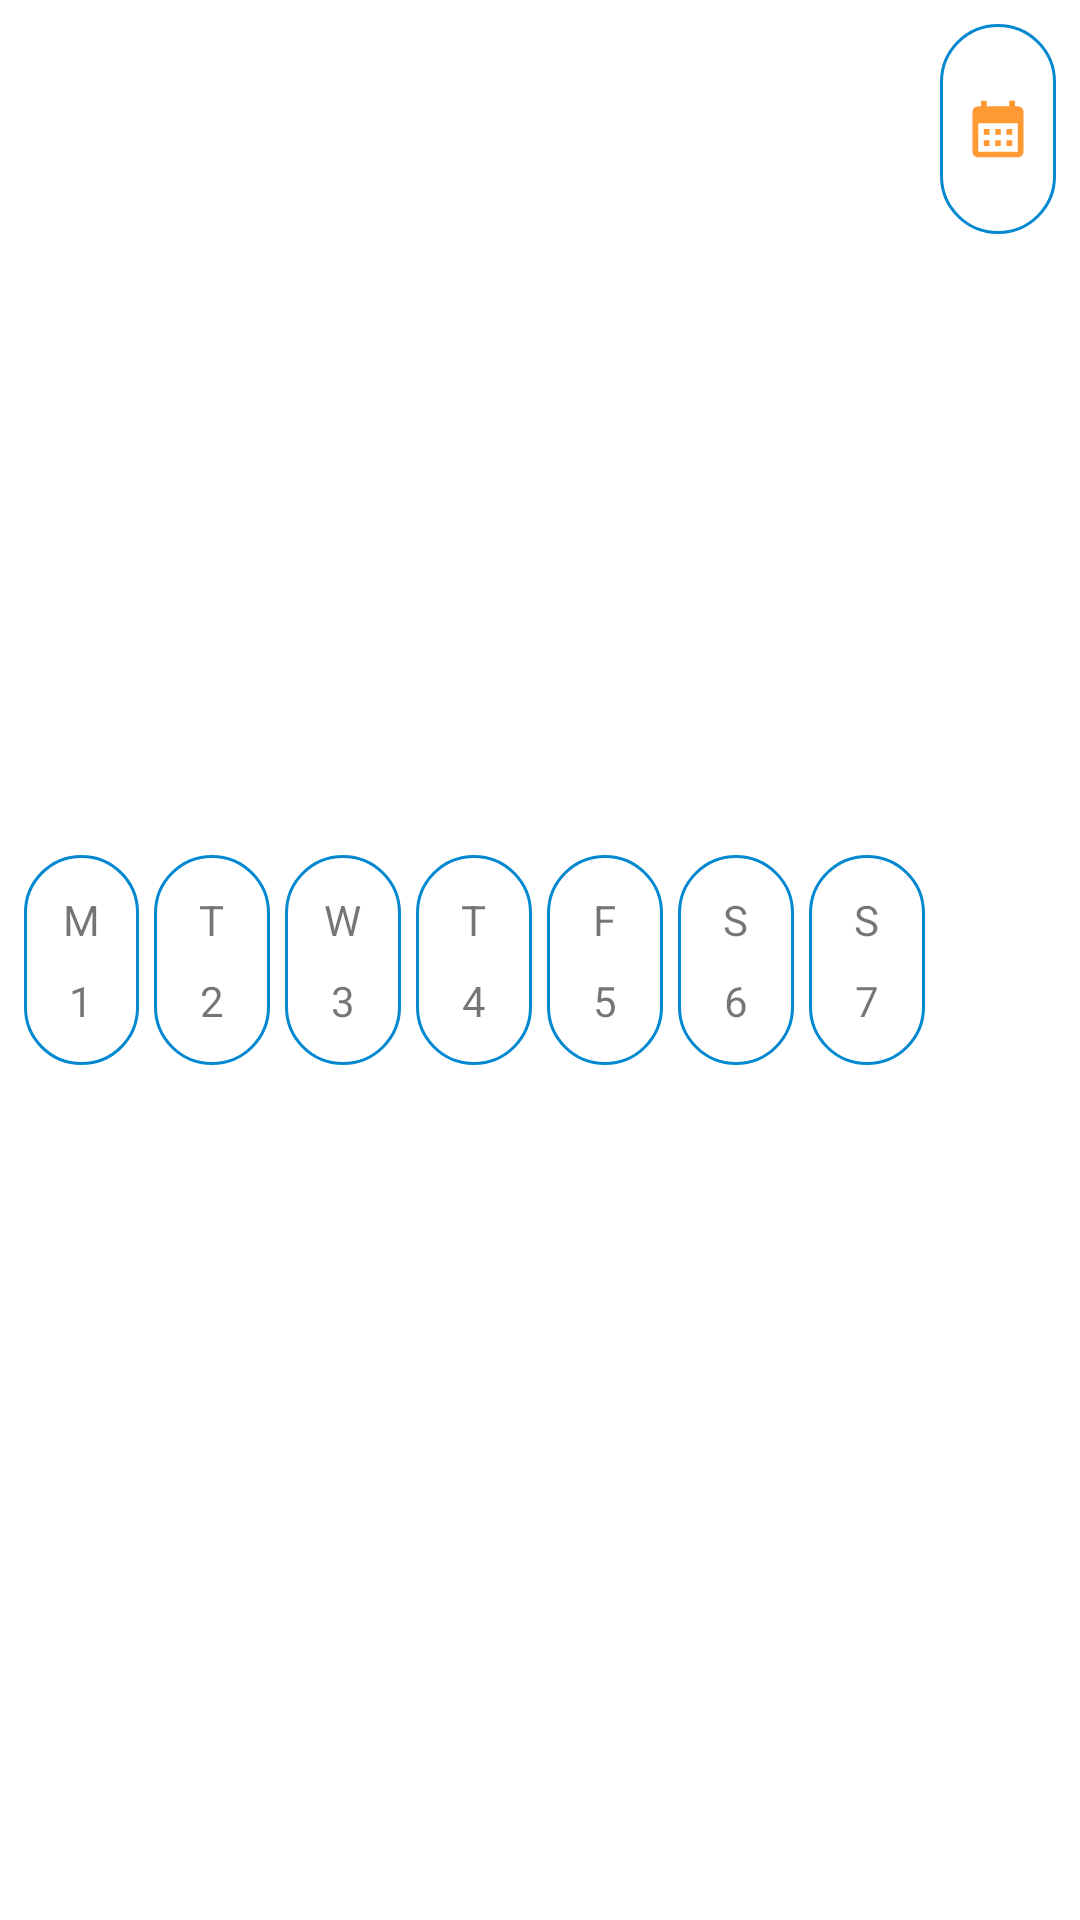

Where to tap for icons on this 1080px x 1920px app screen, as point (x, y):
calender: point (998, 129)
